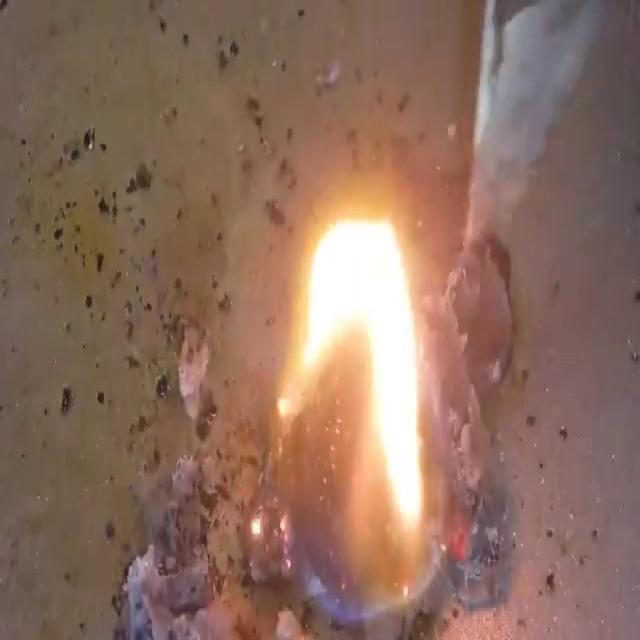Fire: (4, 4, 635, 636)
